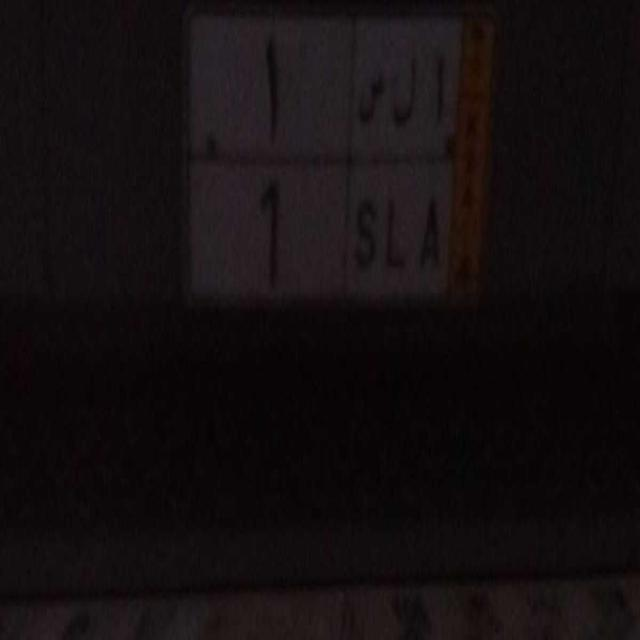license_plate: (185, 148, 451, 320)
